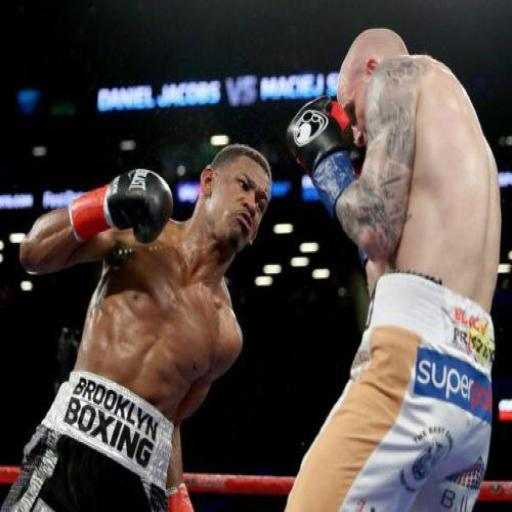boxing: (268, 26, 502, 511), (0, 140, 272, 510)
